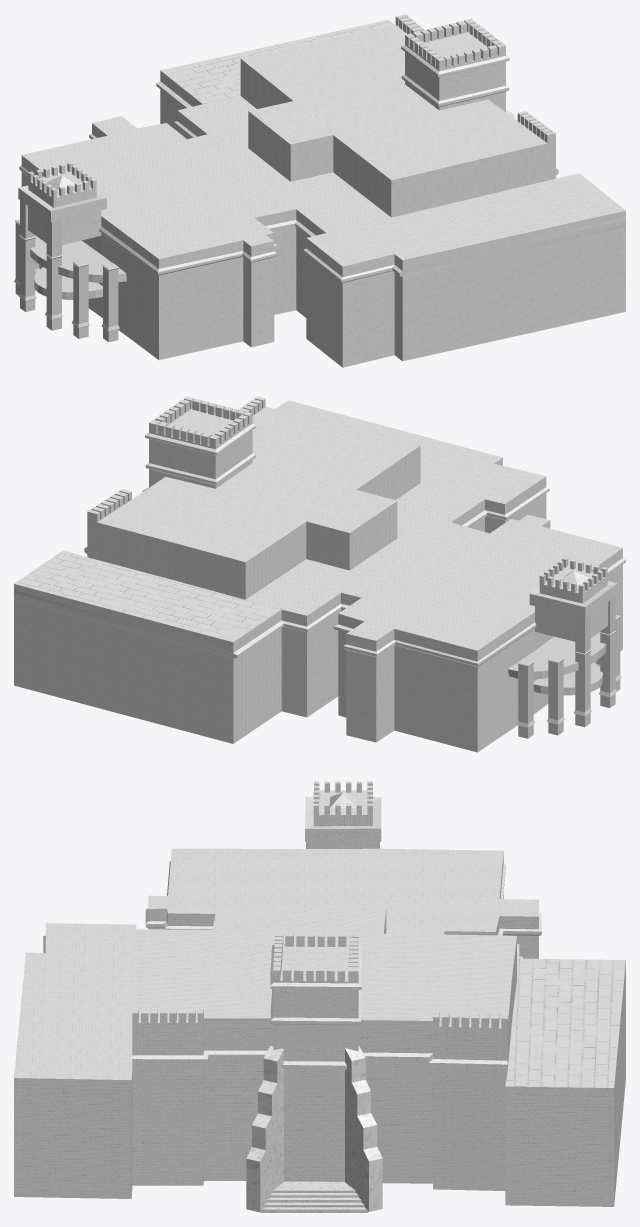
File: BradleyHallExtTexturedV5.gltf
3 renders of one model, top to bottom at view 1: azimuth 30°, elevation 25°; view 2: azimuth 150°, elevation 25°; view 3: azimuth 270°, elevation 25°, orthographic. The views are drawn at different scales.
Parts seen in each view (by area): view 1: Bradley Hall, Back Pillars, Canopies; view 2: Bradley Hall, Back Pillars, Canopies; view 3: Bradley Hall, Front Pillars, Staircase.
Part boxes in pixels (<box>): Bradley Hall: <box>18,14,625,367</box>; Back Pillars: <box>14,200,119,342</box>; Canopies: <box>30,235,126,299</box>; Bradley Hall: <box>14,396,625,752</box>; Back Pillars: <box>517,596,621,738</box>; Canopies: <box>507,632,606,695</box>; Bradley Hall: <box>14,781,625,1206</box>; Front Pillars: <box>246,1045,382,1212</box>; Staircase: <box>260,1181,367,1212</box>.
Bounding box in the file's own units: 81.9 × 32.09 × 77.5.
6 materials, 4 textured.
